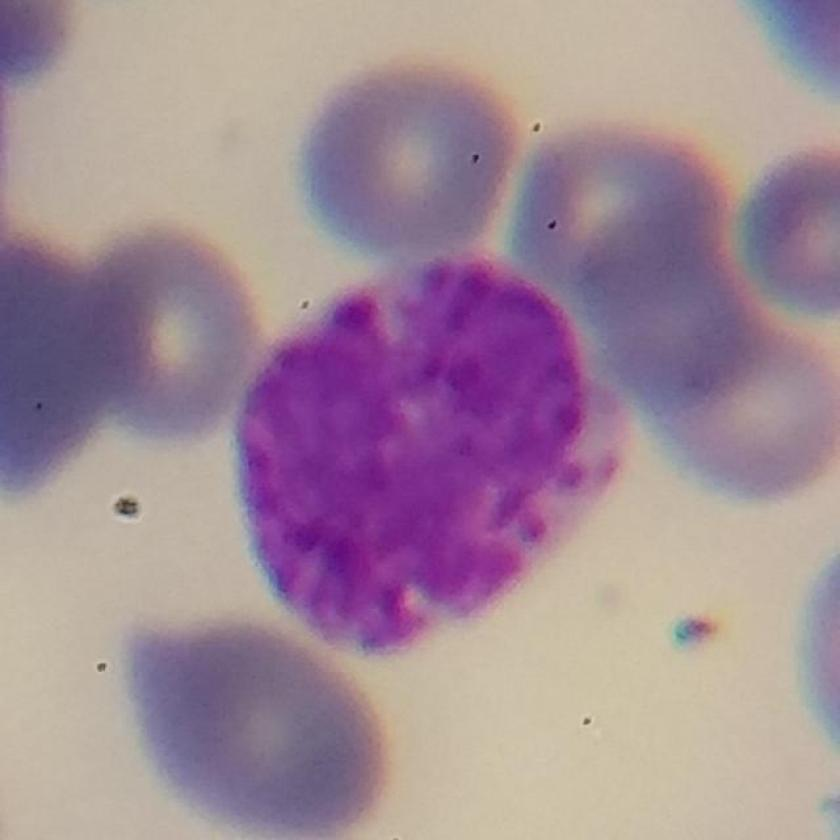basophil: (237, 245, 630, 661)
